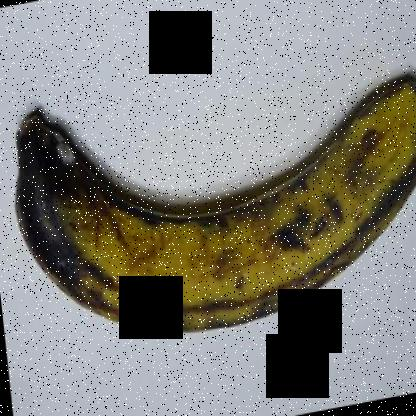overripe: (5, 52, 415, 343)
rotten: (0, 106, 122, 310)
